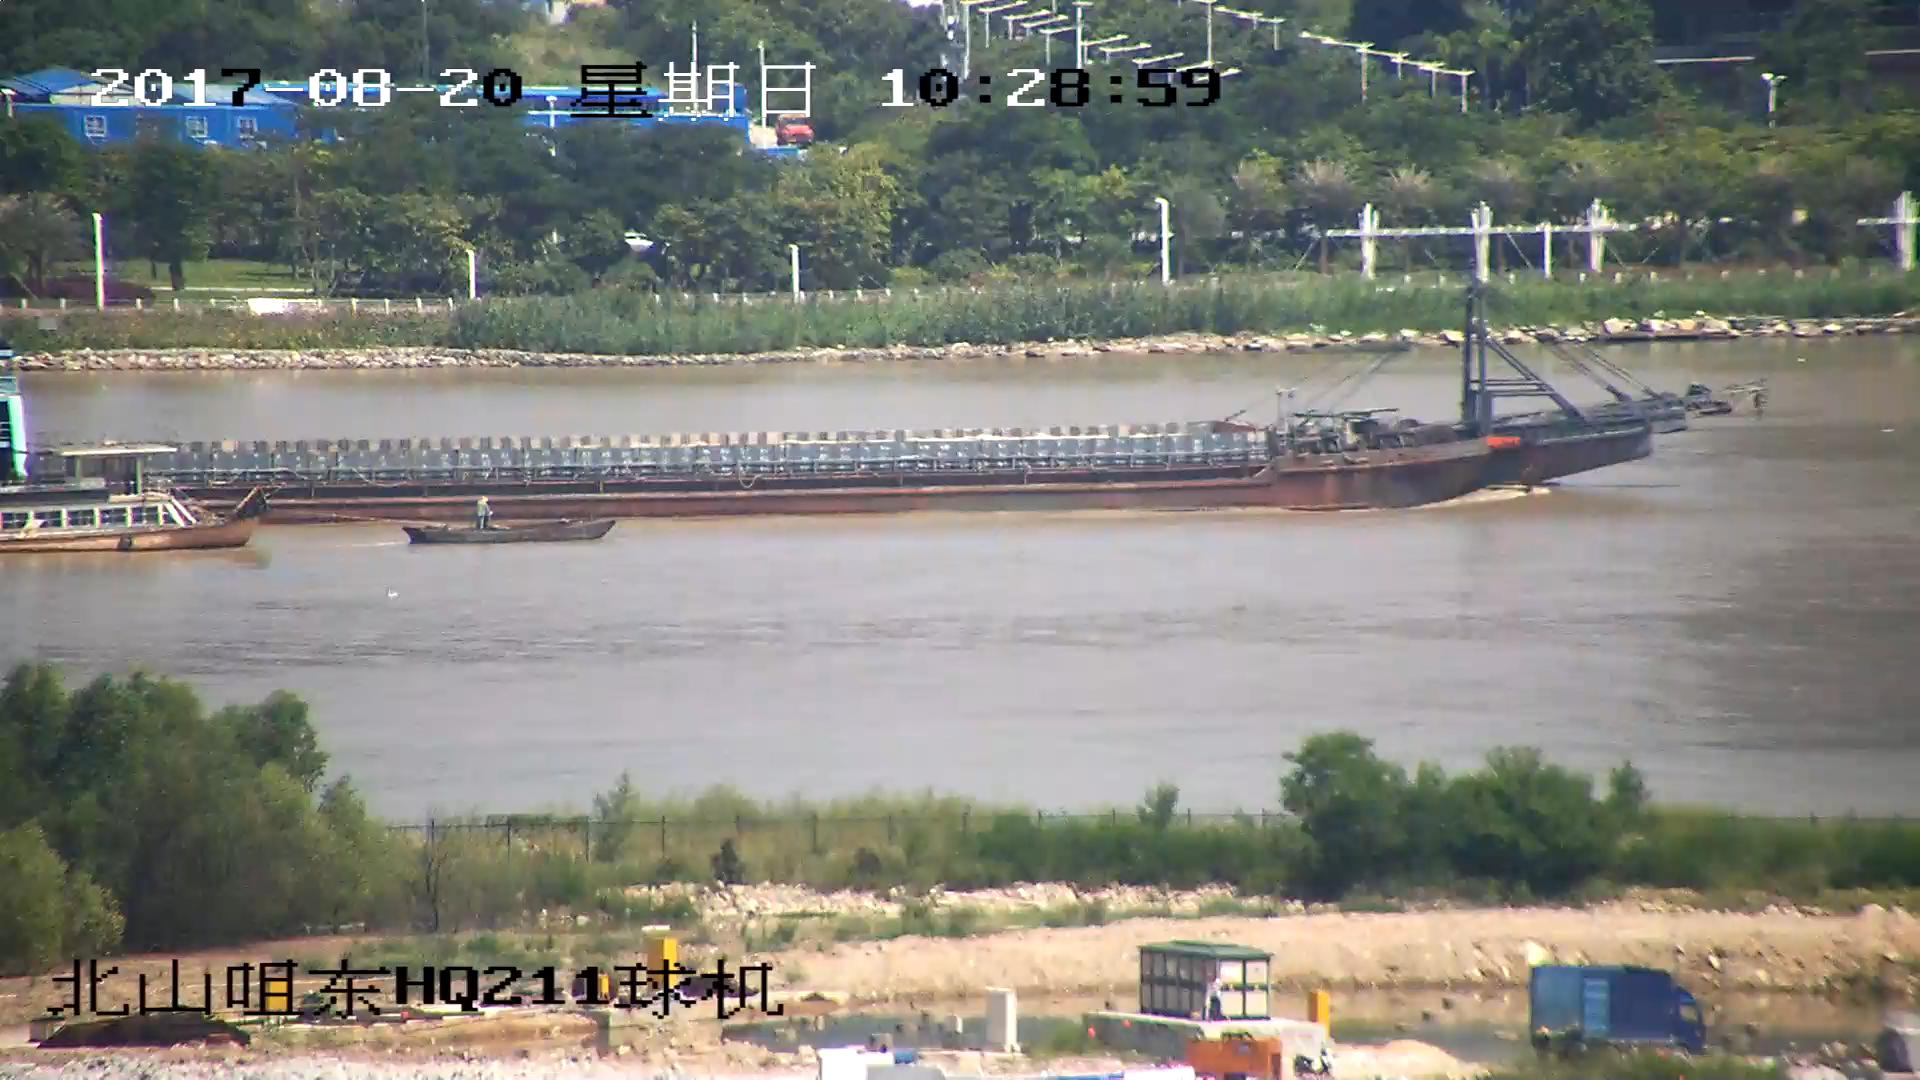fishing boat: (1, 442, 268, 551), (406, 499, 608, 544)
ore carrier: (1, 273, 1761, 528)
